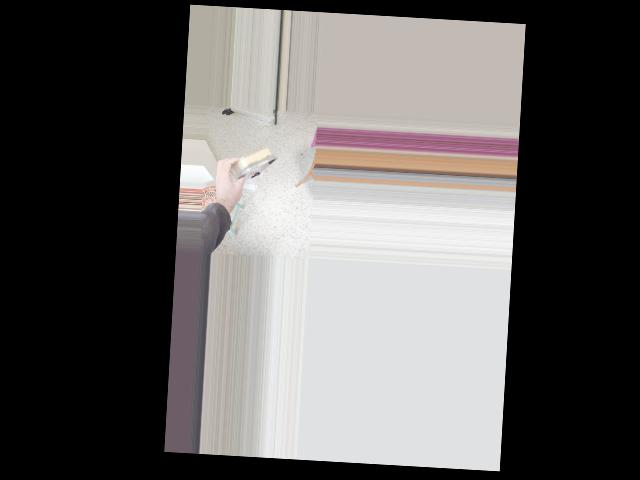cheese: (206, 134, 280, 195)
